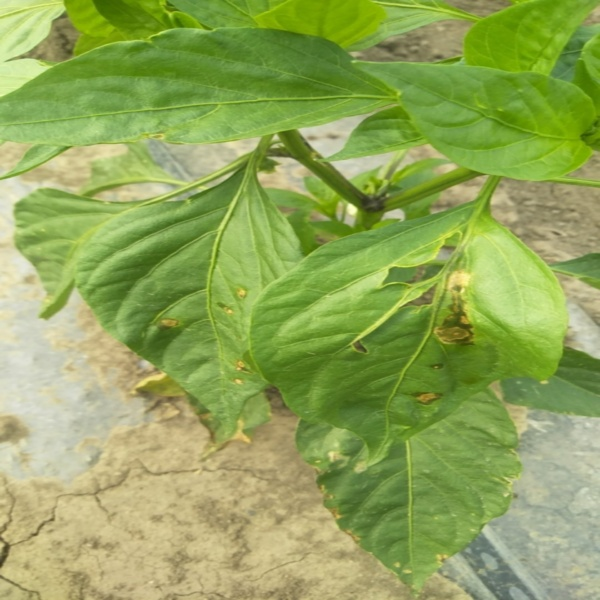Anthrax: (250, 214, 569, 592), (81, 194, 301, 451)
blight: (348, 175, 404, 225)
